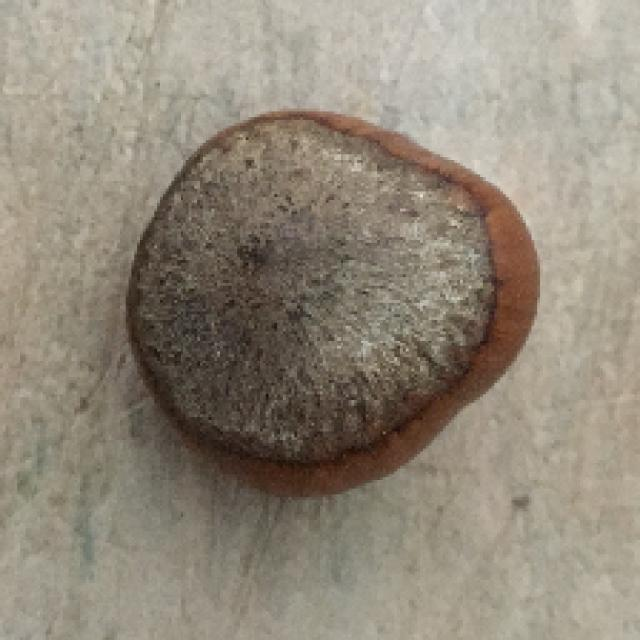qualityHazelnut: (128, 106, 540, 504)
